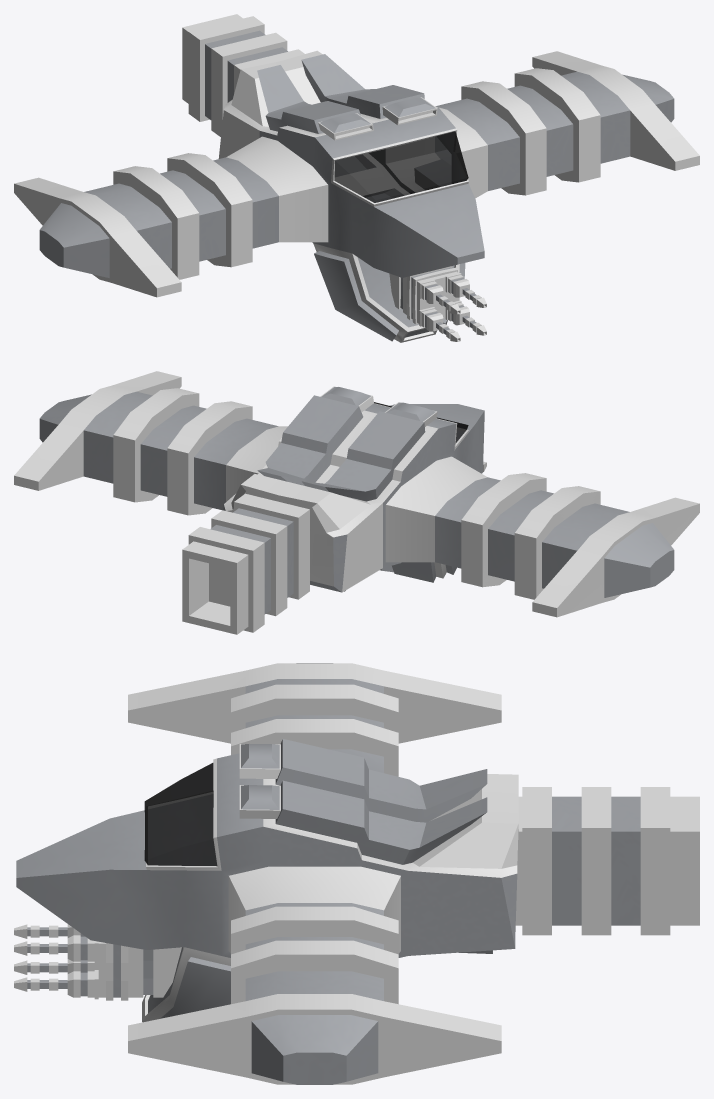
File: CBC.fbx
The picture shows the model from 3 angles, top to bottom: view 1: azimuth 30°, elevation 25°; view 2: azimuth 150°, elevation 25°; view 3: azimuth 270°, elevation 25°; orthographic projection. The views are drawn at different scales.
Visible parts, largest first — view 1: CBC; view 2: CBC; view 3: CBC.
Part boxes in pixels (x1=…): CBC: x1=14, y1=14, x2=699, y2=342; CBC: x1=14, y1=371, x2=699, y2=634; CBC: x1=14, y1=663, x2=699, y2=1084.
Size of the model in its own units: 8.9 by 2.8 by 6.62.
